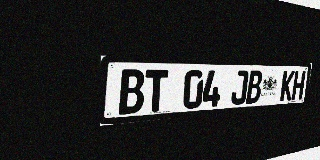0: (182, 70, 204, 109)
4: (202, 70, 222, 108)
B: (119, 69, 145, 115), (246, 70, 263, 104)
H: (291, 71, 306, 100)
J: (230, 70, 249, 105)
K: (279, 71, 295, 101)
T: (144, 70, 168, 113)
